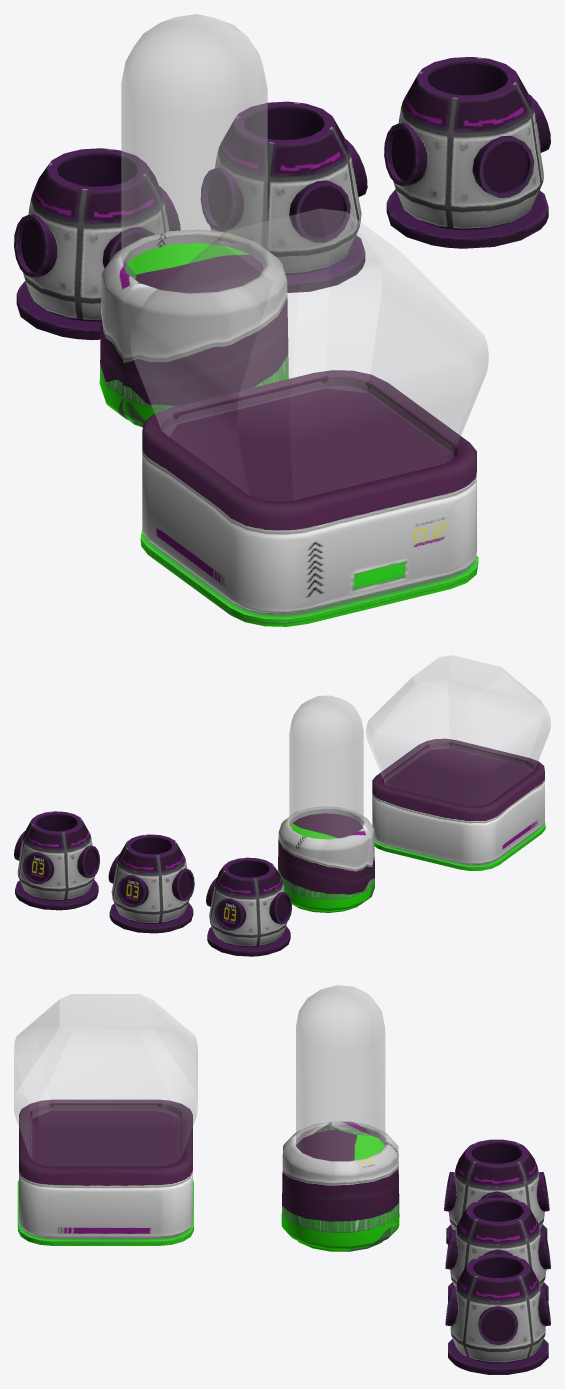
Rendered from Updated_w_LODS (Fixed).fbx.
3 renders of one model, top to bottom at view 1: azimuth 30°, elevation 25°; view 2: azimuth 150°, elevation 25°; view 3: azimuth 270°, elevation 25°, orthographic. The views are drawn at different scales.
Parts seen in each view (by area): view 1: C2_LOD0, C1_LOD0, C3_LP2, C3_LP1, C3_LP0; view 2: C2_LOD0, C1_LOD0, C3_LP0, C3_LP1, C3_LP2; view 3: C2_LOD0, C1_LOD0, C3_LP2, C3_LP0, C3_LP1.
Part boxes in pixels (left/top/right/bottom): C2_LOD0: left=130, top=208, right=488, bottom=626; C1_LOD0: left=99, top=14, right=288, bottom=427; C3_LP2: left=384, top=57, right=550, bottom=248; C3_LP1: left=200, top=101, right=367, bottom=292; C3_LP0: left=14, top=148, right=180, bottom=340; C2_LOD0: left=366, top=655, right=550, bottom=870; C1_LOD0: left=278, top=695, right=374, bottom=912; C3_LP0: left=206, top=857, right=291, bottom=956; C3_LP1: left=108, top=834, right=194, bottom=933; C3_LP2: left=14, top=811, right=99, bottom=910; C2_LOD0: left=14, top=994, right=197, bottom=1245; C1_LOD0: left=281, top=985, right=399, bottom=1251; C3_LP2: left=445, top=1254, right=550, bottom=1374; C3_LP0: left=444, top=1139, right=549, bottom=1244; C3_LP1: left=445, top=1197, right=550, bottom=1301.
Size of what is drawn, in the model's own units: 1301 by 714 by 1438.
